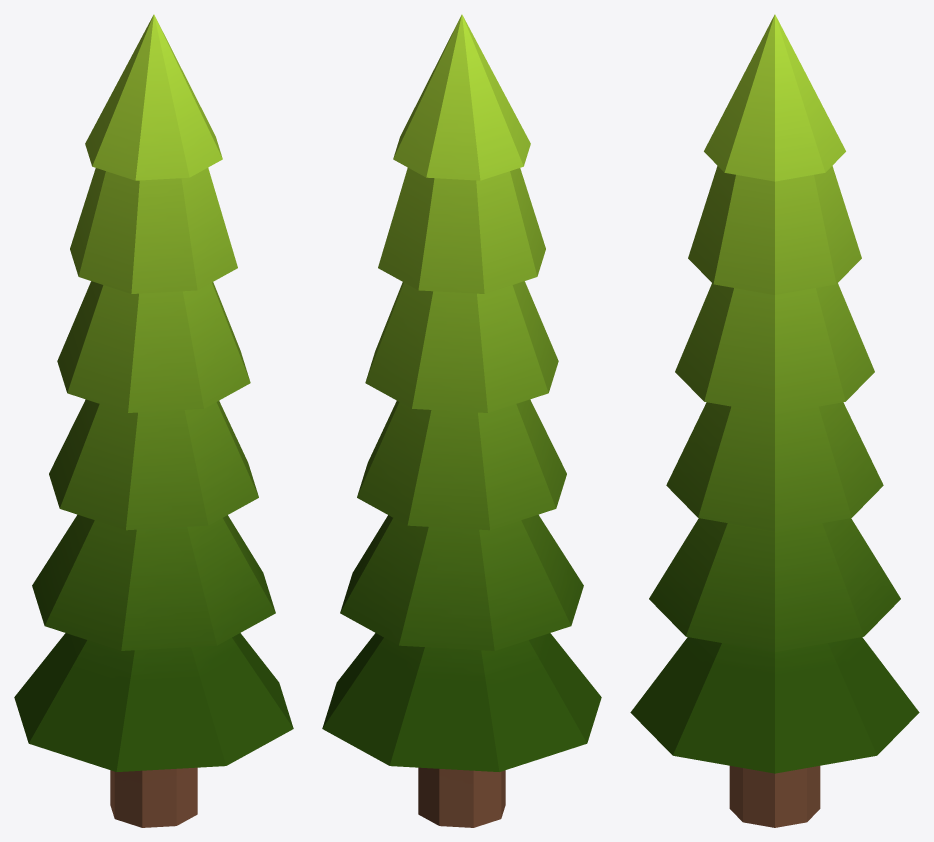
File: Tree.Pine.glb
The picture shows the model from 3 angles, left to right: view 1: azimuth 30°, elevation 25°; view 2: azimuth 150°, elevation 25°; view 3: azimuth 270°, elevation 25°; orthographic projection.
Parts seen in each view (by area): view 1: PineTree; view 2: PineTree; view 3: PineTree.
Boxes of the visible parts, box(x1,y1,x2,y2) form: PineTree: box(14, 14, 293, 827); PineTree: box(322, 14, 601, 827); PineTree: box(630, 14, 919, 827).
Bounding box in the file's own units: 2.02 × 6.13 × 2.02.
1 material, 1 textured.
